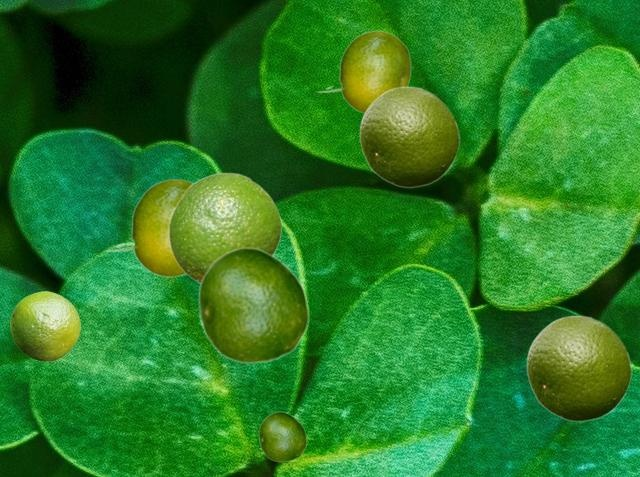calamansi: (197, 246, 309, 363), (168, 172, 281, 283), (526, 314, 631, 421), (359, 85, 459, 187), (103, 178, 192, 276), (315, 30, 410, 113), (10, 291, 79, 360), (258, 411, 306, 461)
